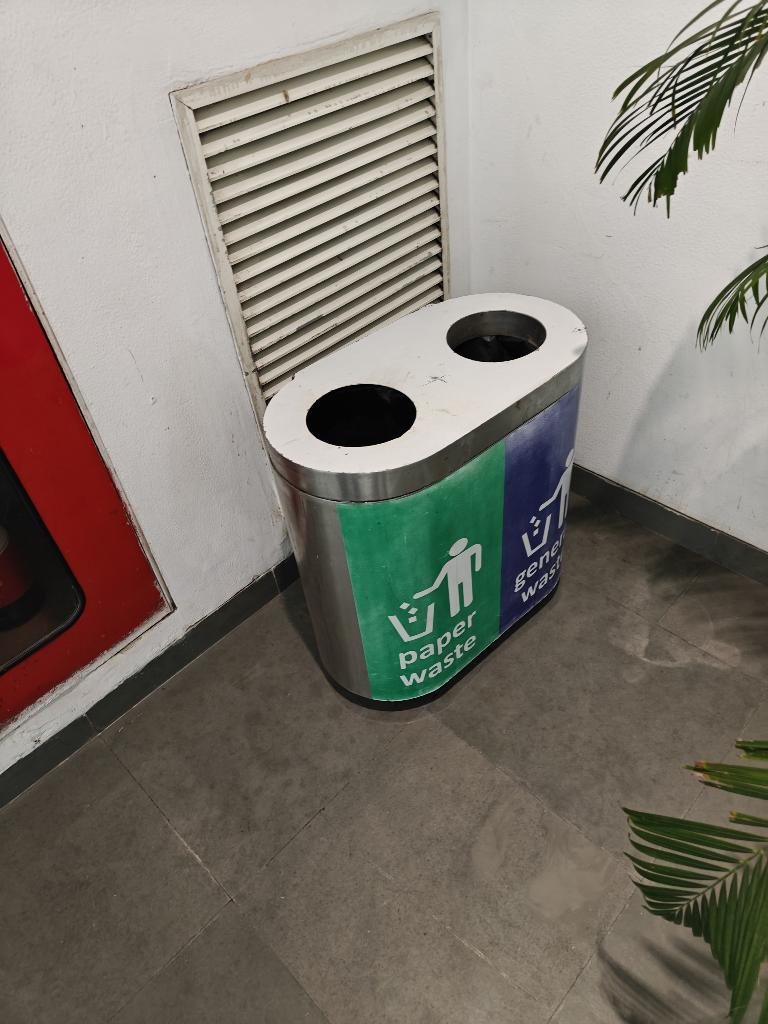dustbin: (228, 285, 600, 706)
